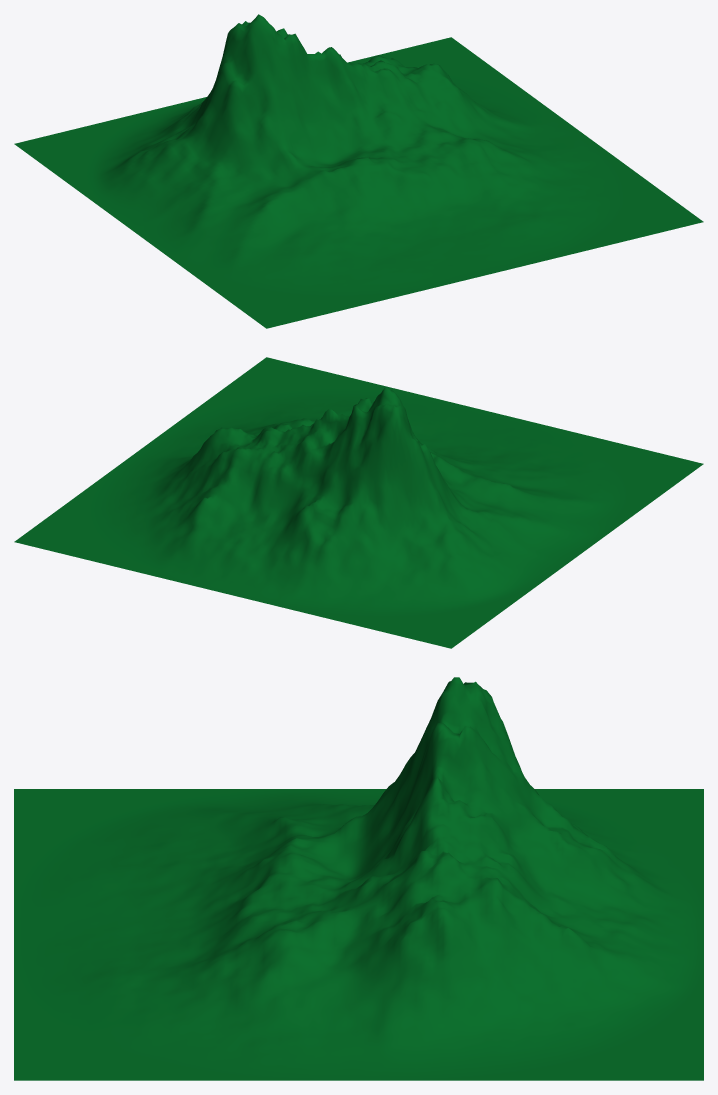
File: near_island_tall.glb
The picture shows the model from 3 angles, top to bottom: view 1: azimuth 30°, elevation 25°; view 2: azimuth 150°, elevation 25°; view 3: azimuth 270°, elevation 25°; orthographic projection. The views are drawn at different scales.
Visible parts, largest first — view 1: Landscape.003; view 2: Landscape.003; view 3: Landscape.003.
Boxes of the visible parts, bbox=[...] form: Landscape.003: bbox=[14, 14, 703, 328]; Landscape.003: bbox=[14, 357, 703, 648]; Landscape.003: bbox=[14, 677, 703, 1080].
Size of the model in its own units: 2 by 0.6878 by 2.
